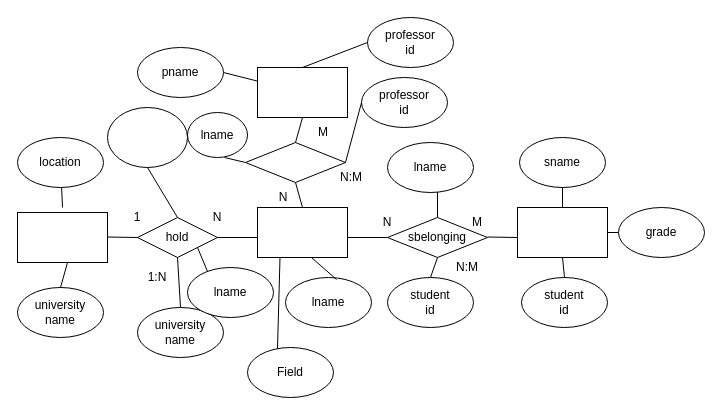
Some shapes in this 722 by 415 pixel diagram are drawn without their labels. Each missing label, with the centre of its shape:
"laboratory" goes at (302,232).
"professor" goes at (302,92).
"room number" goes at (147,137).
"student" goes at (562,232).
"tbelonging" goes at (295,162).
"university" goes at (62,237).
